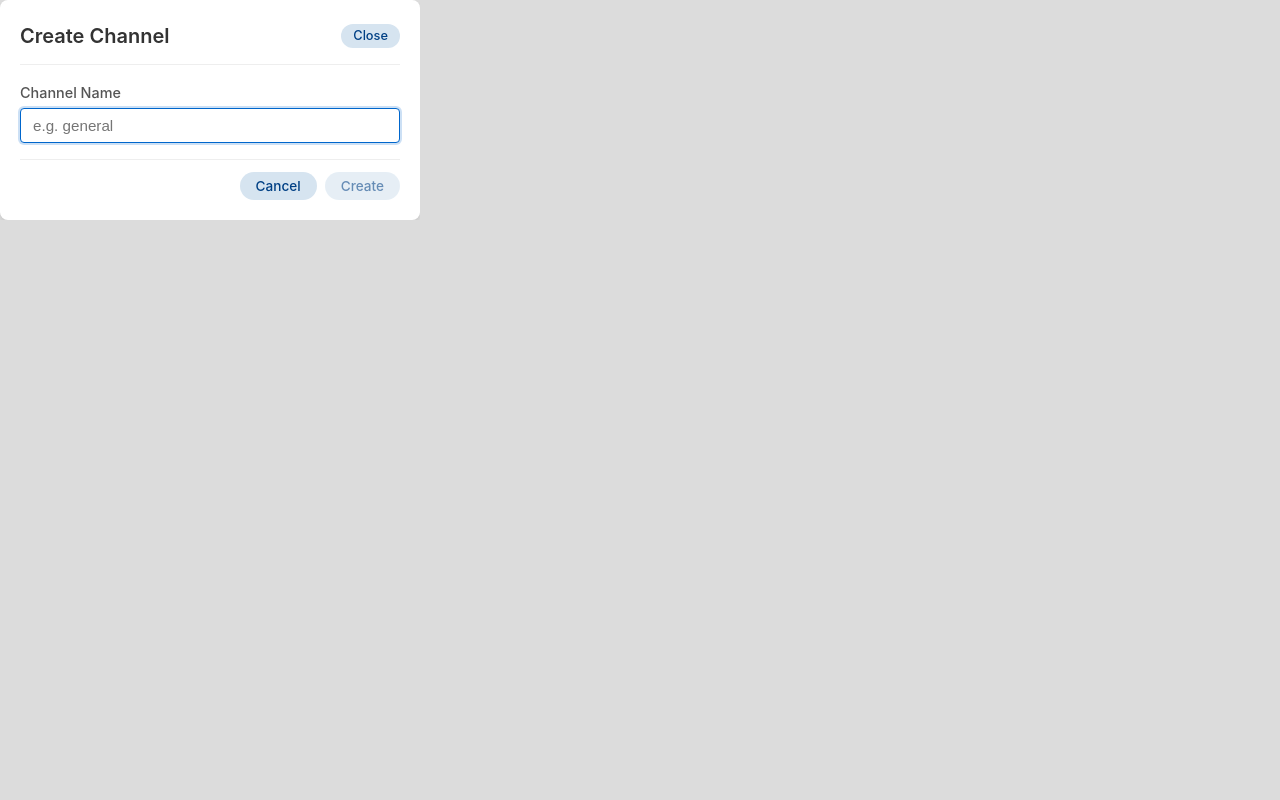
CreateChannelModal › shows error on failure
Step 1. Type "test" into the field labelled "Channel Name" → (210, 126), box [20,108,400,143]
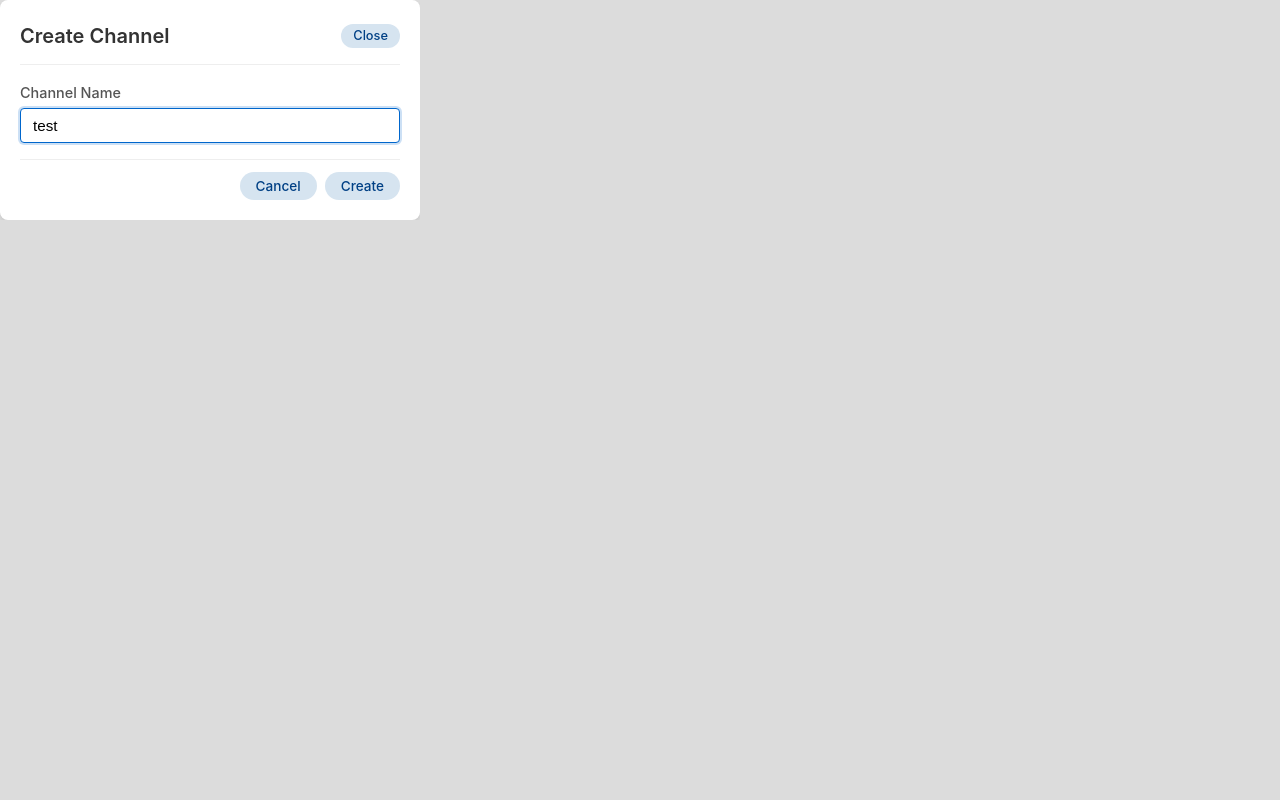
Step 2. Click the button "Create" → (362, 186), box [325,172,400,200]
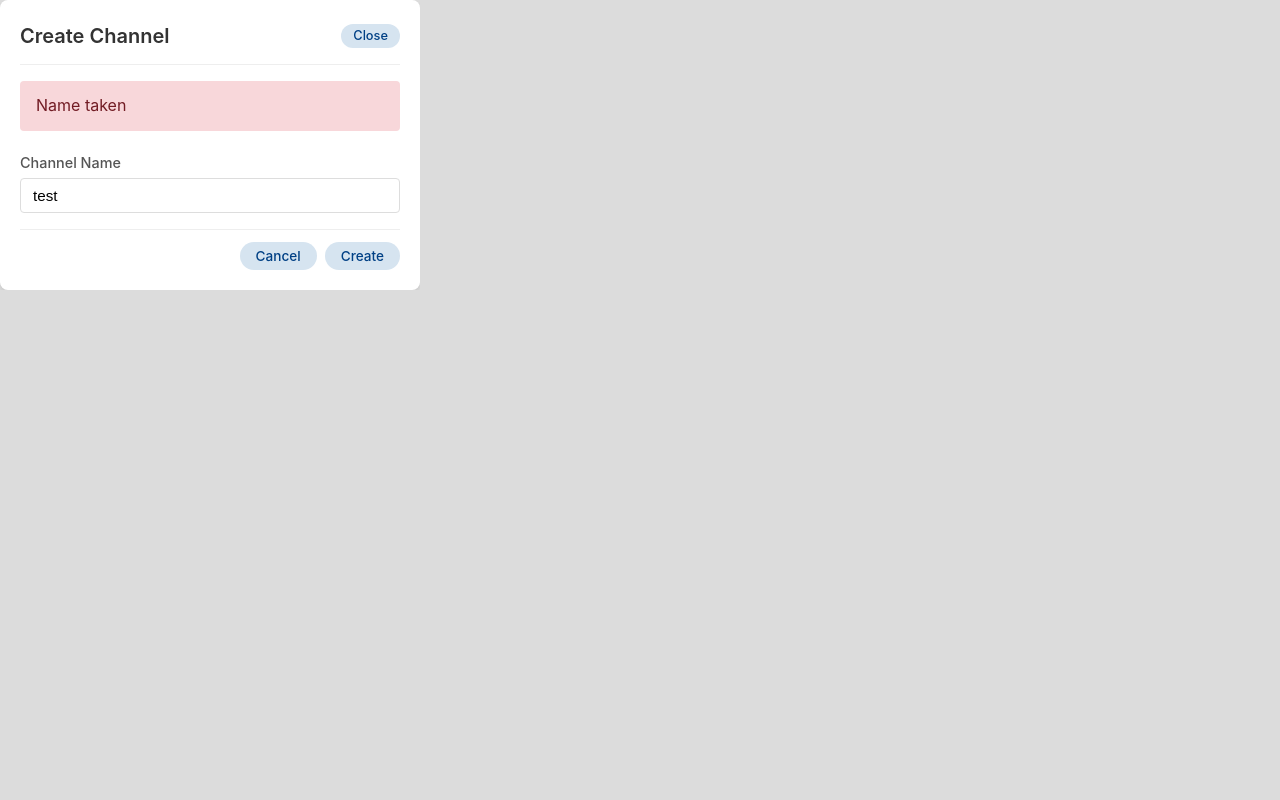
Result: the text "Name taken" is shown at [20,81,400,131]
